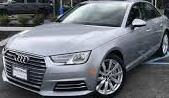Cars: (4, 3, 169, 97)
